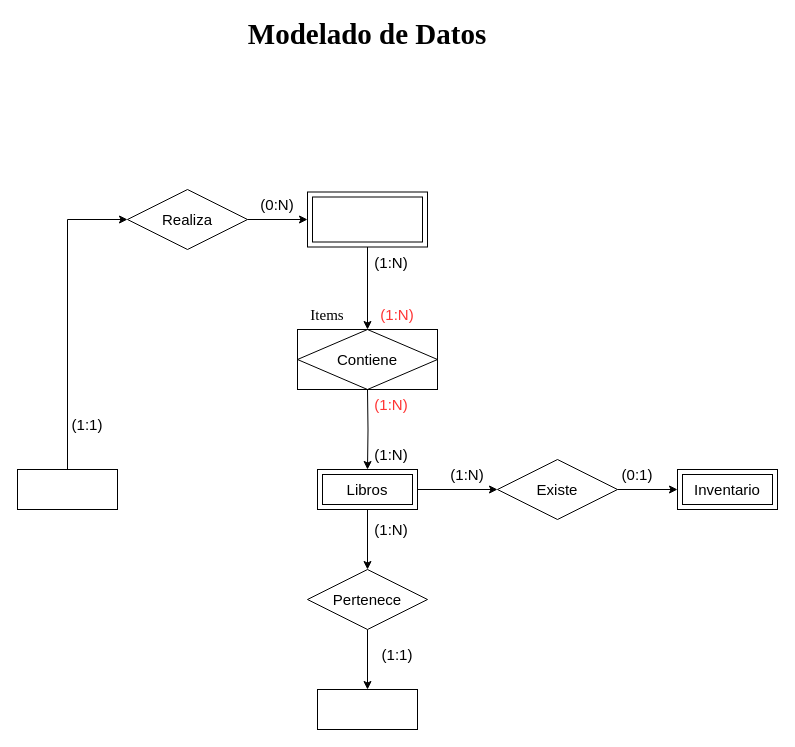
Image size: 795x747. Some labels were removed from this diagram. Each missing label, with the centre of its shape:
Clientes: point 67,489
Editorial: point 367,709
Pedido de compra: point 367,219
